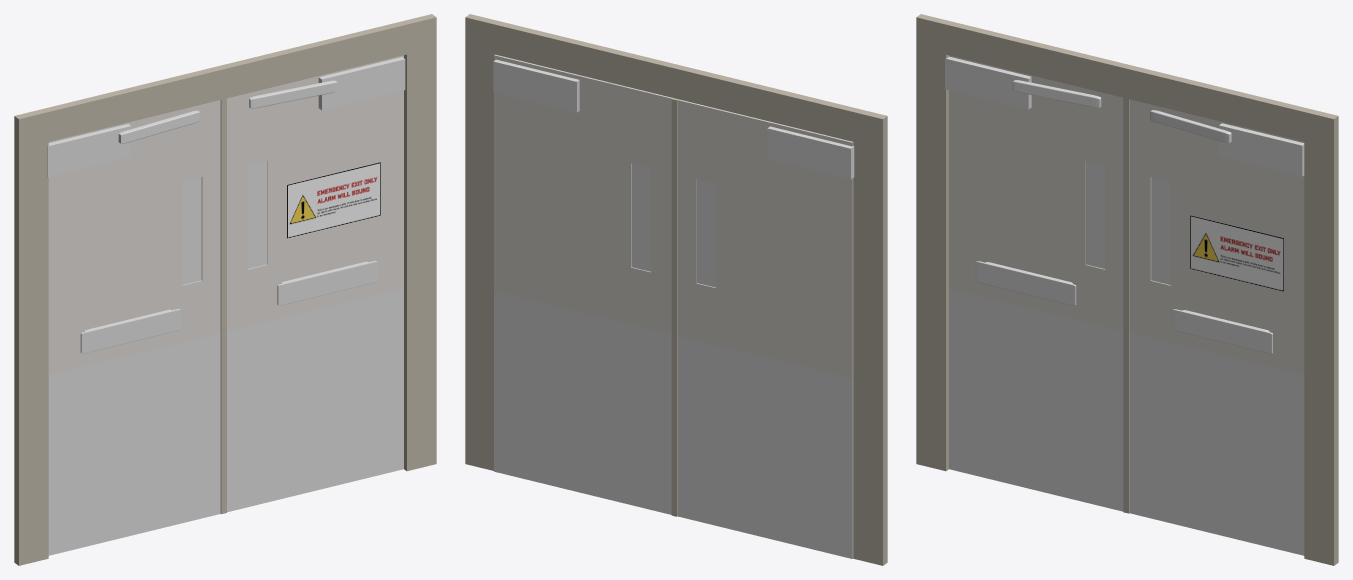
The model's file is exit-doors-warning.fbx.
3 views of the same model, side by side, from view 1: azimuth 30°, elevation 25°; view 2: azimuth 150°, elevation 25°; view 3: azimuth 330°, elevation 25° (orthographic).
Parts seen in each view (by area): view 1: Cube.001, Cube.007, Cube.005, Cube.011, Cube, Cube.009, Cube.004, Cube.012, Cube.003, Cube.008; view 2: Cube.001, Cube.007, Cube.005, Cube.011, Cube, Cube.003, Cube.008; view 3: Cube.001, Cube.007, Cube.005, Cube.011, Cube, Cube.009, Cube.004, Cube.012, Cube.008, Cube.003.
Boxes of the visible parts, x1,y1,x2,y2 form: Cube.001: (227, 55, 403, 512); Cube.007: (48, 100, 220, 555); Cube.005: (14, 14, 436, 565); Cube.011: (47, 57, 405, 176); Cube: (220, 98, 226, 514); Cube.009: (80, 309, 181, 353); Cube.004: (277, 261, 377, 305); Cube.012: (118, 80, 337, 143); Cube.003: (247, 161, 266, 268); Cube.008: (182, 177, 201, 284); Cube.001: (494, 54, 673, 514); Cube.007: (674, 98, 853, 558); Cube.005: (465, 14, 887, 565); Cube.011: (493, 59, 854, 179); Cube: (671, 98, 677, 516); Cube.003: (631, 163, 650, 271); Cube.008: (696, 179, 715, 287); Cube.001: (1129, 99, 1304, 555); Cube.007: (949, 55, 1123, 511); Cube.005: (916, 14, 1338, 565); Cube.011: (945, 56, 1304, 176); Cube: (1123, 98, 1129, 513); Cube.009: (975, 261, 1076, 305); Cube.004: (1172, 309, 1272, 353); Cube.012: (1012, 80, 1231, 143); Cube.008: (1086, 161, 1105, 268); Cube.003: (1151, 177, 1170, 284).
Bounding box in the file's own units: 210 × 215 × 9.5.
